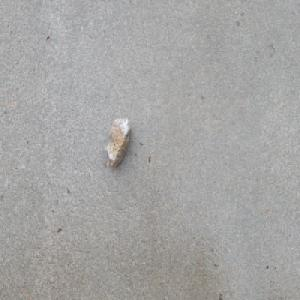Rock: (104, 114, 131, 168)
